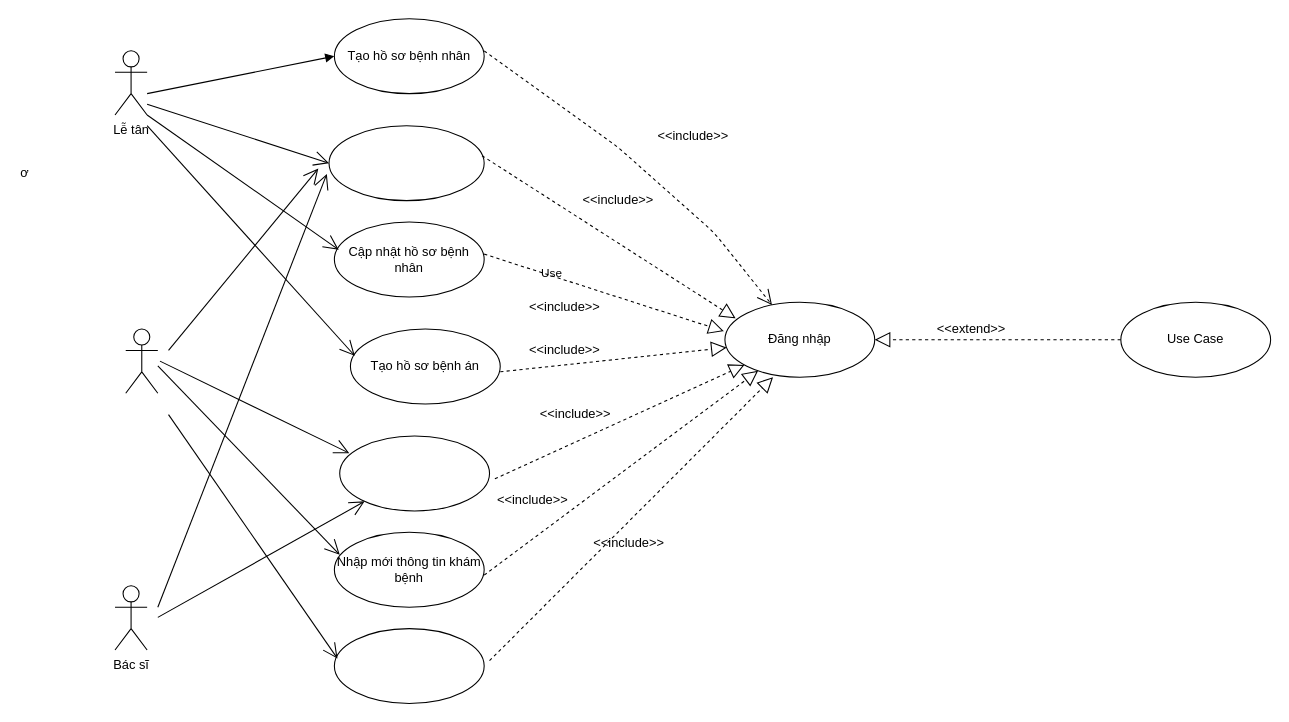
Some shapes in this 1289 by 722 pixel diagram are drawn without their labels. The shapes that lost their labels are listed below. From the top down, each one's centre as x and y in pixels, then its label:
At point 406,163: "Tìm kiếm hồ sơ bệnh nhân".
At point 141,360: "Y tá".
At point 414,473: "Tìm kiếm hồ sơ bênh án".
At point 408,666: "Cập nhật hồ sơi bênh án".
